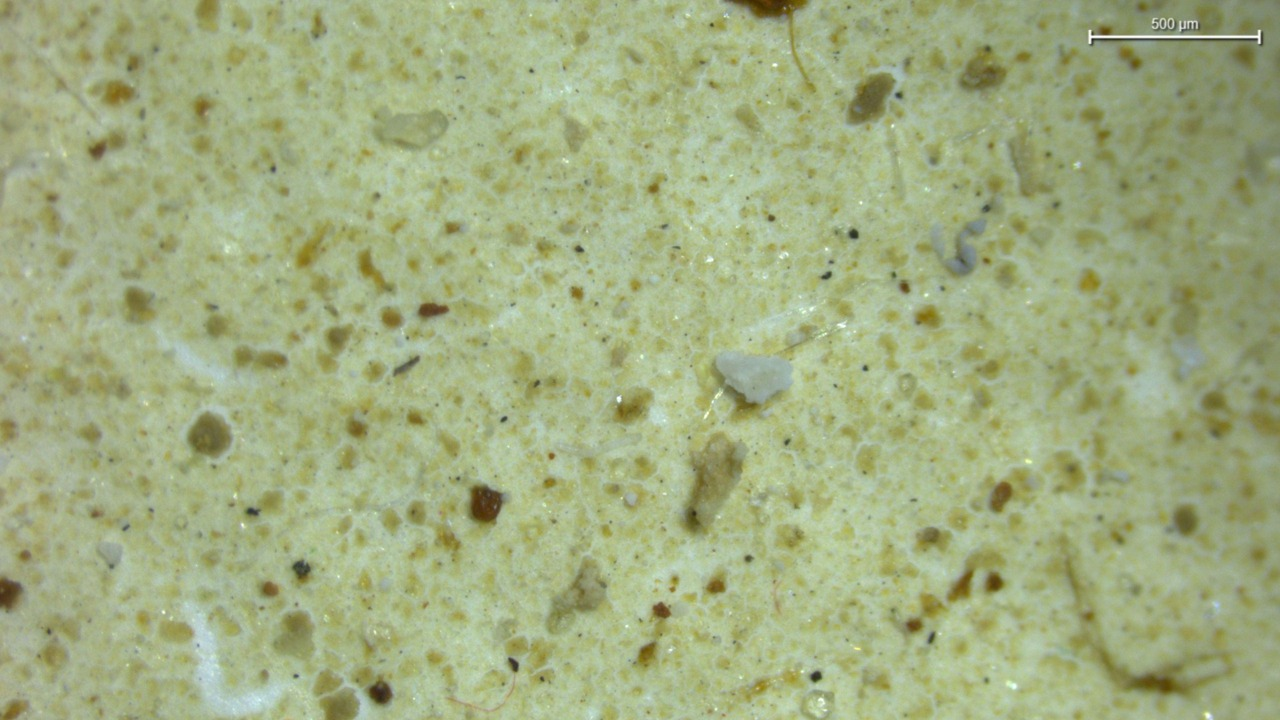microplastic_fragment: (685, 434, 747, 531), (715, 352, 793, 404), (375, 110, 448, 149)
